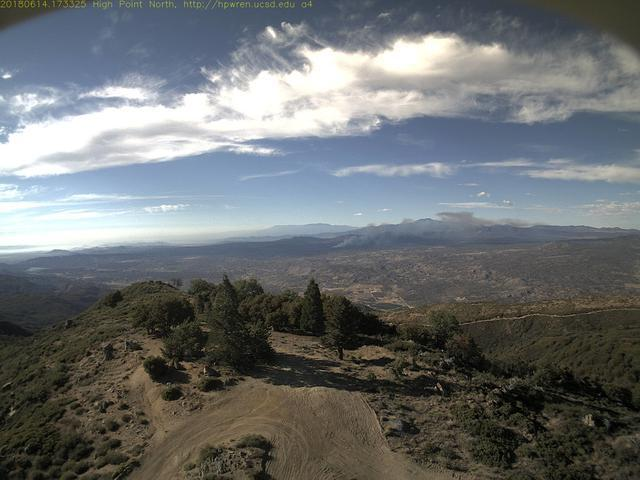smoke: (331, 205, 528, 251)
